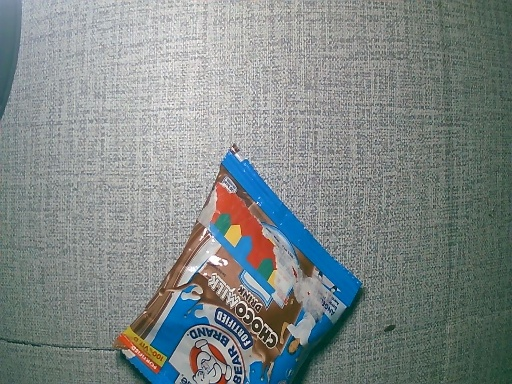plastic: (109, 153, 362, 384)
